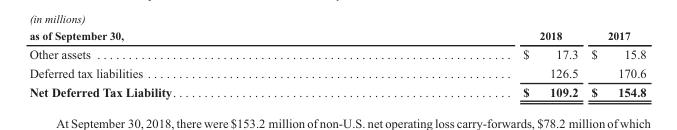table: (28, 28, 645, 98)
table column: (28, 28, 348, 98), (348, 28, 583, 98), (583, 28, 645, 98)
table column header: (28, 28, 645, 44)
table row: (28, 62, 645, 81), (28, 44, 645, 62), (28, 81, 645, 98), (28, 28, 645, 44)
